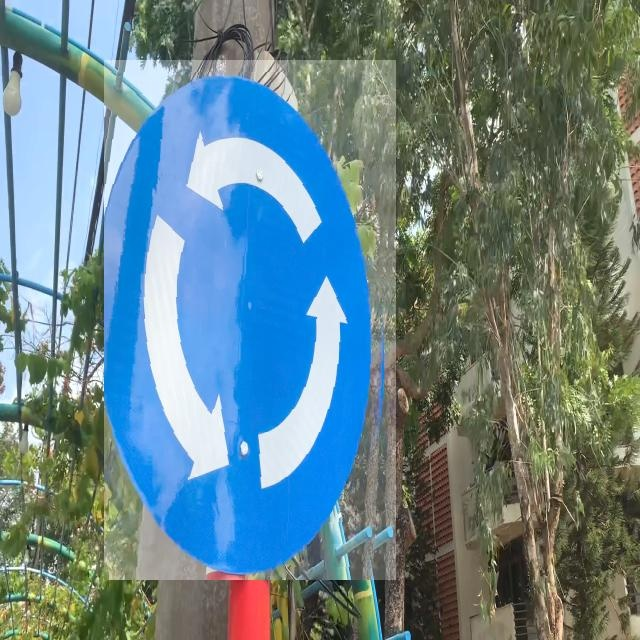bien_hieu_lenh: (104, 60, 396, 580)
